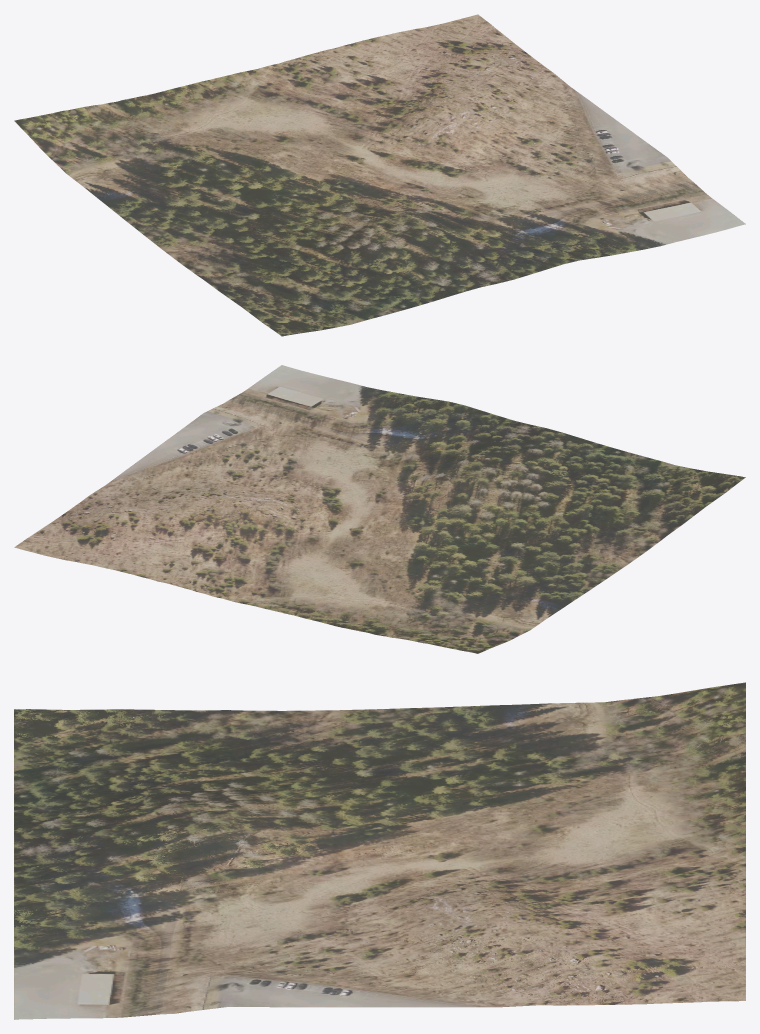
The model's file is CM_Terrain_24493530_6816108.fbx.
3 views of the same model, one above another, from view 1: azimuth 30°, elevation 25°; view 2: azimuth 150°, elevation 25°; view 3: azimuth 270°, elevation 25° (orthographic). The views are drawn at different scales.
Parts seen in each view (by area): view 1: CM_Terrain_24493530_6816108_LOD0; view 2: CM_Terrain_24493530_6816108_LOD0; view 3: CM_Terrain_24493530_6816108_LOD0.
Boxes of the visible parts, x1,y1,x2,y2 form: CM_Terrain_24493530_6816108_LOD0: [14, 14, 745, 336]; CM_Terrain_24493530_6816108_LOD0: [14, 365, 745, 653]; CM_Terrain_24493530_6816108_LOD0: [14, 682, 745, 1019].
Size of what is drawn, in the model's own units: 205 by 10.6 by 205.
